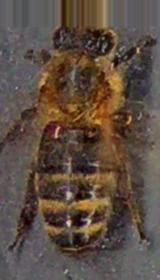varroa_mite: (45, 116, 69, 146)
